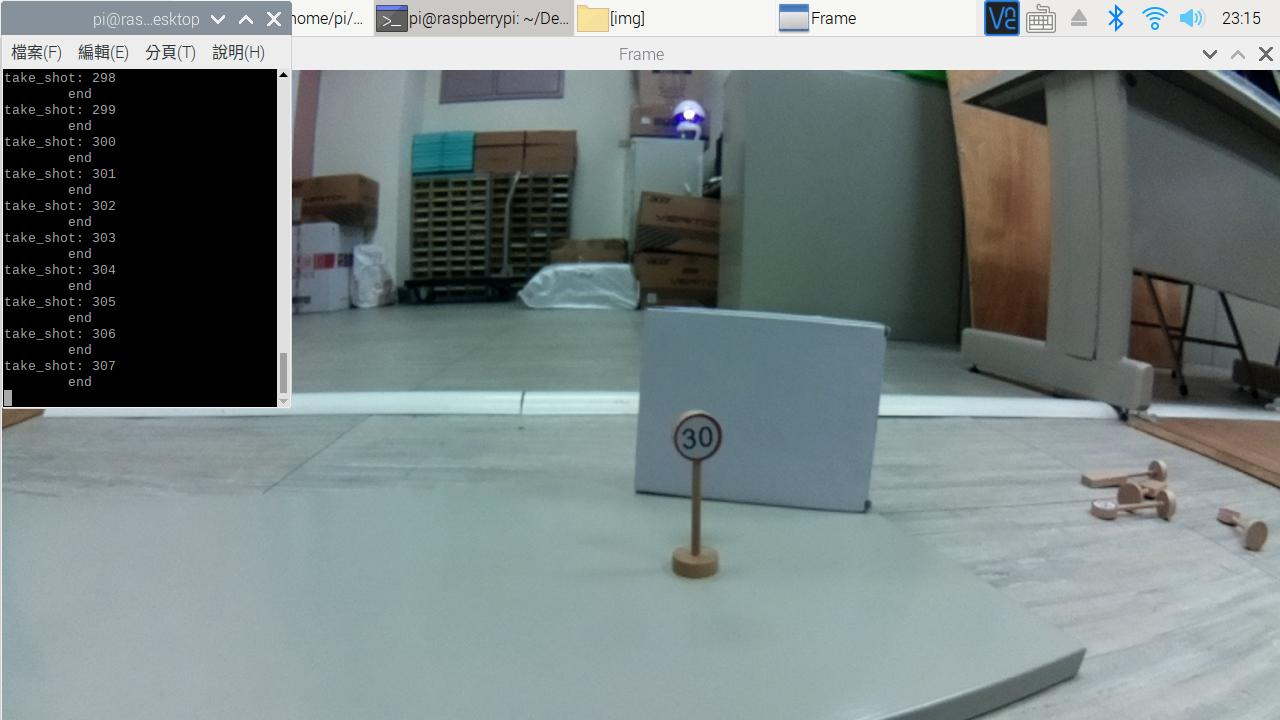Speed30: (661, 409, 742, 477)
